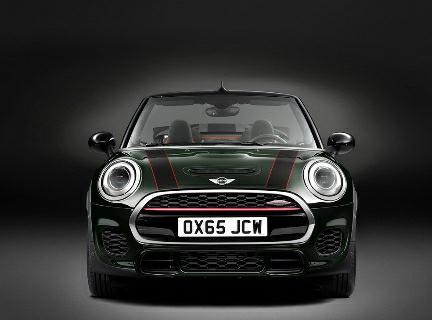MINI-JCW: (92, 100, 350, 297)
